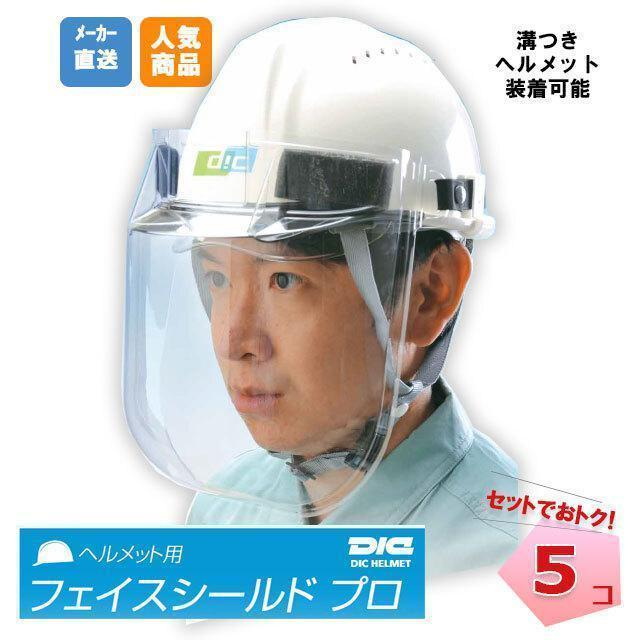hat: (131, 14, 498, 239)
